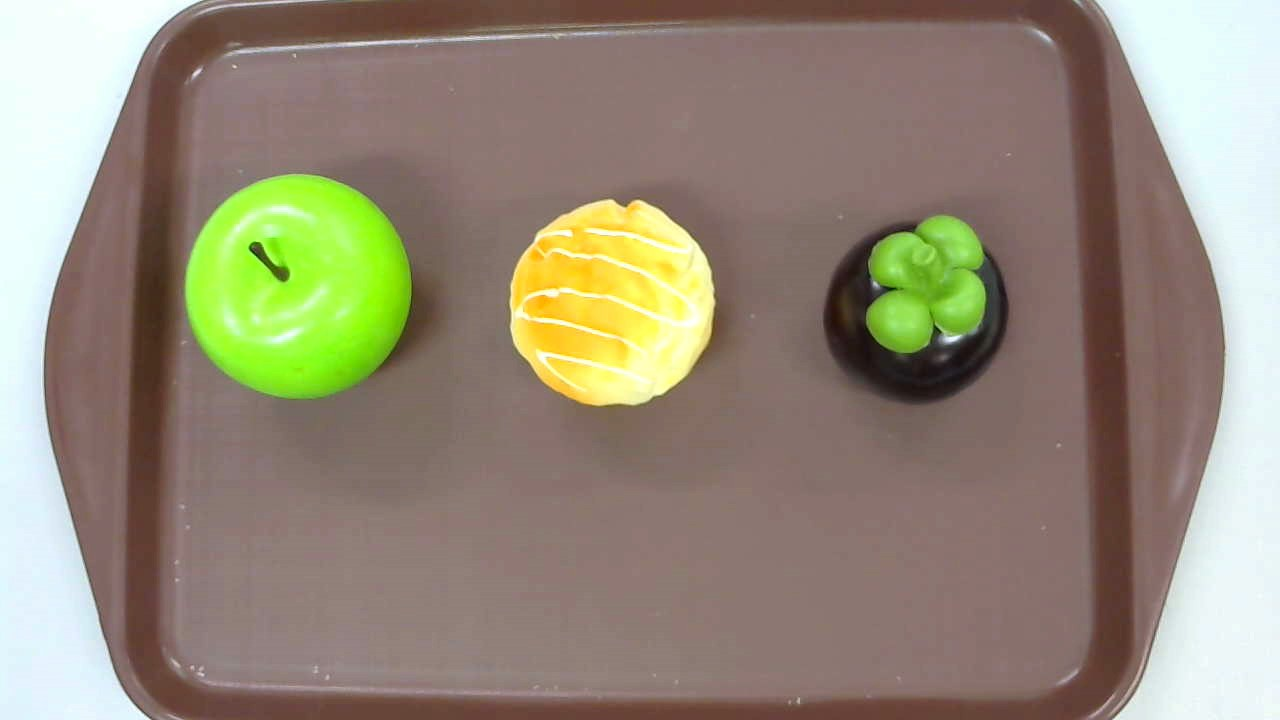cupcake: (509, 196, 716, 406)
green apple: (184, 173, 410, 400)
mangosteen: (821, 214, 1009, 407)
